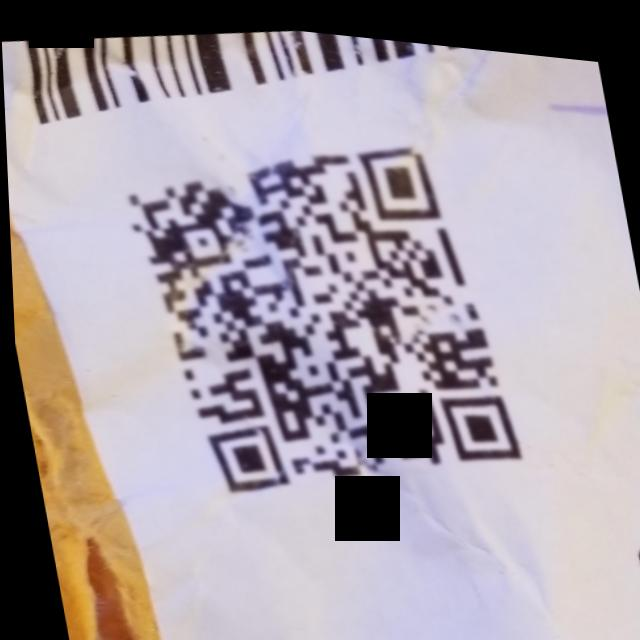QR_CODE: (102, 97, 534, 537)
